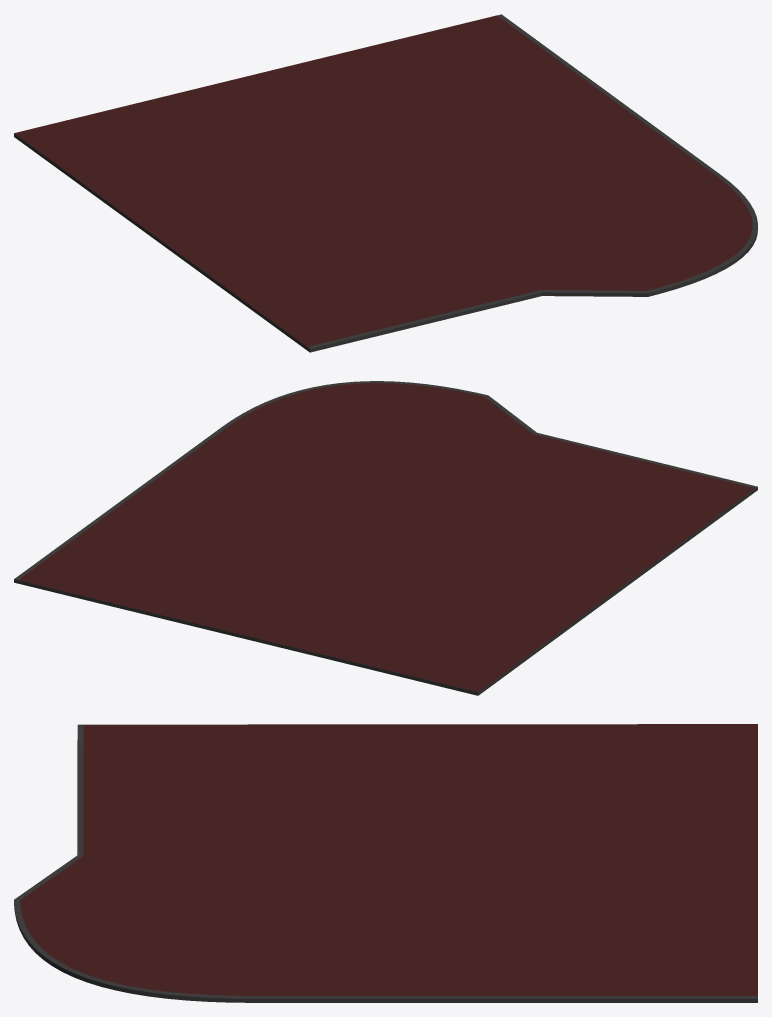
The model's file is Road5.FBX.
3 views of the same model, one above another, from view 1: azimuth 30°, elevation 25°; view 2: azimuth 150°, elevation 25°; view 3: azimuth 270°, elevation 25° (orthographic). The views are drawn at different scales.
Parts seen in each view (by area): view 1: Object010, Box011; view 2: Object010, Box011; view 3: Object010, Box011.
Boxes of the visible parts, x1,y1,x2,y2 form: Object010: [14, 15, 752, 346]; Box011: [14, 14, 757, 352]; Object010: [19, 383, 754, 691]; Box011: [14, 381, 757, 695]; Object010: [20, 724, 757, 995]; Box011: [14, 724, 757, 1002].
Size of the model in its own units: 3632 by 26.87 by 4160.
